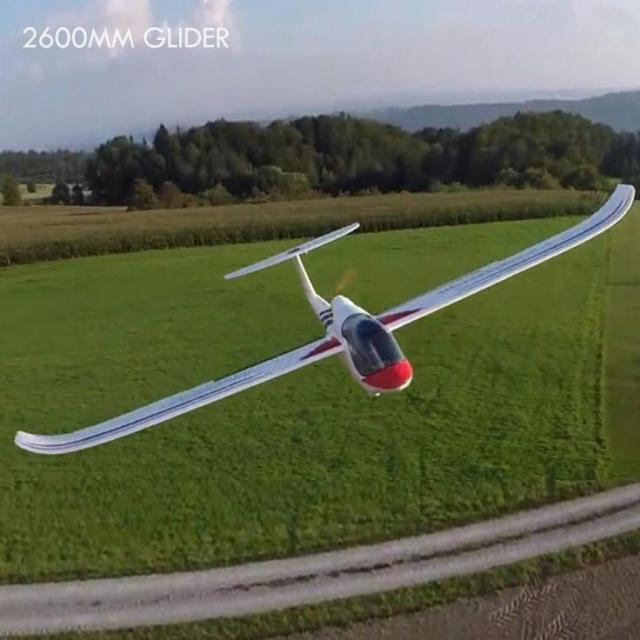iha: (10, 180, 638, 460)
